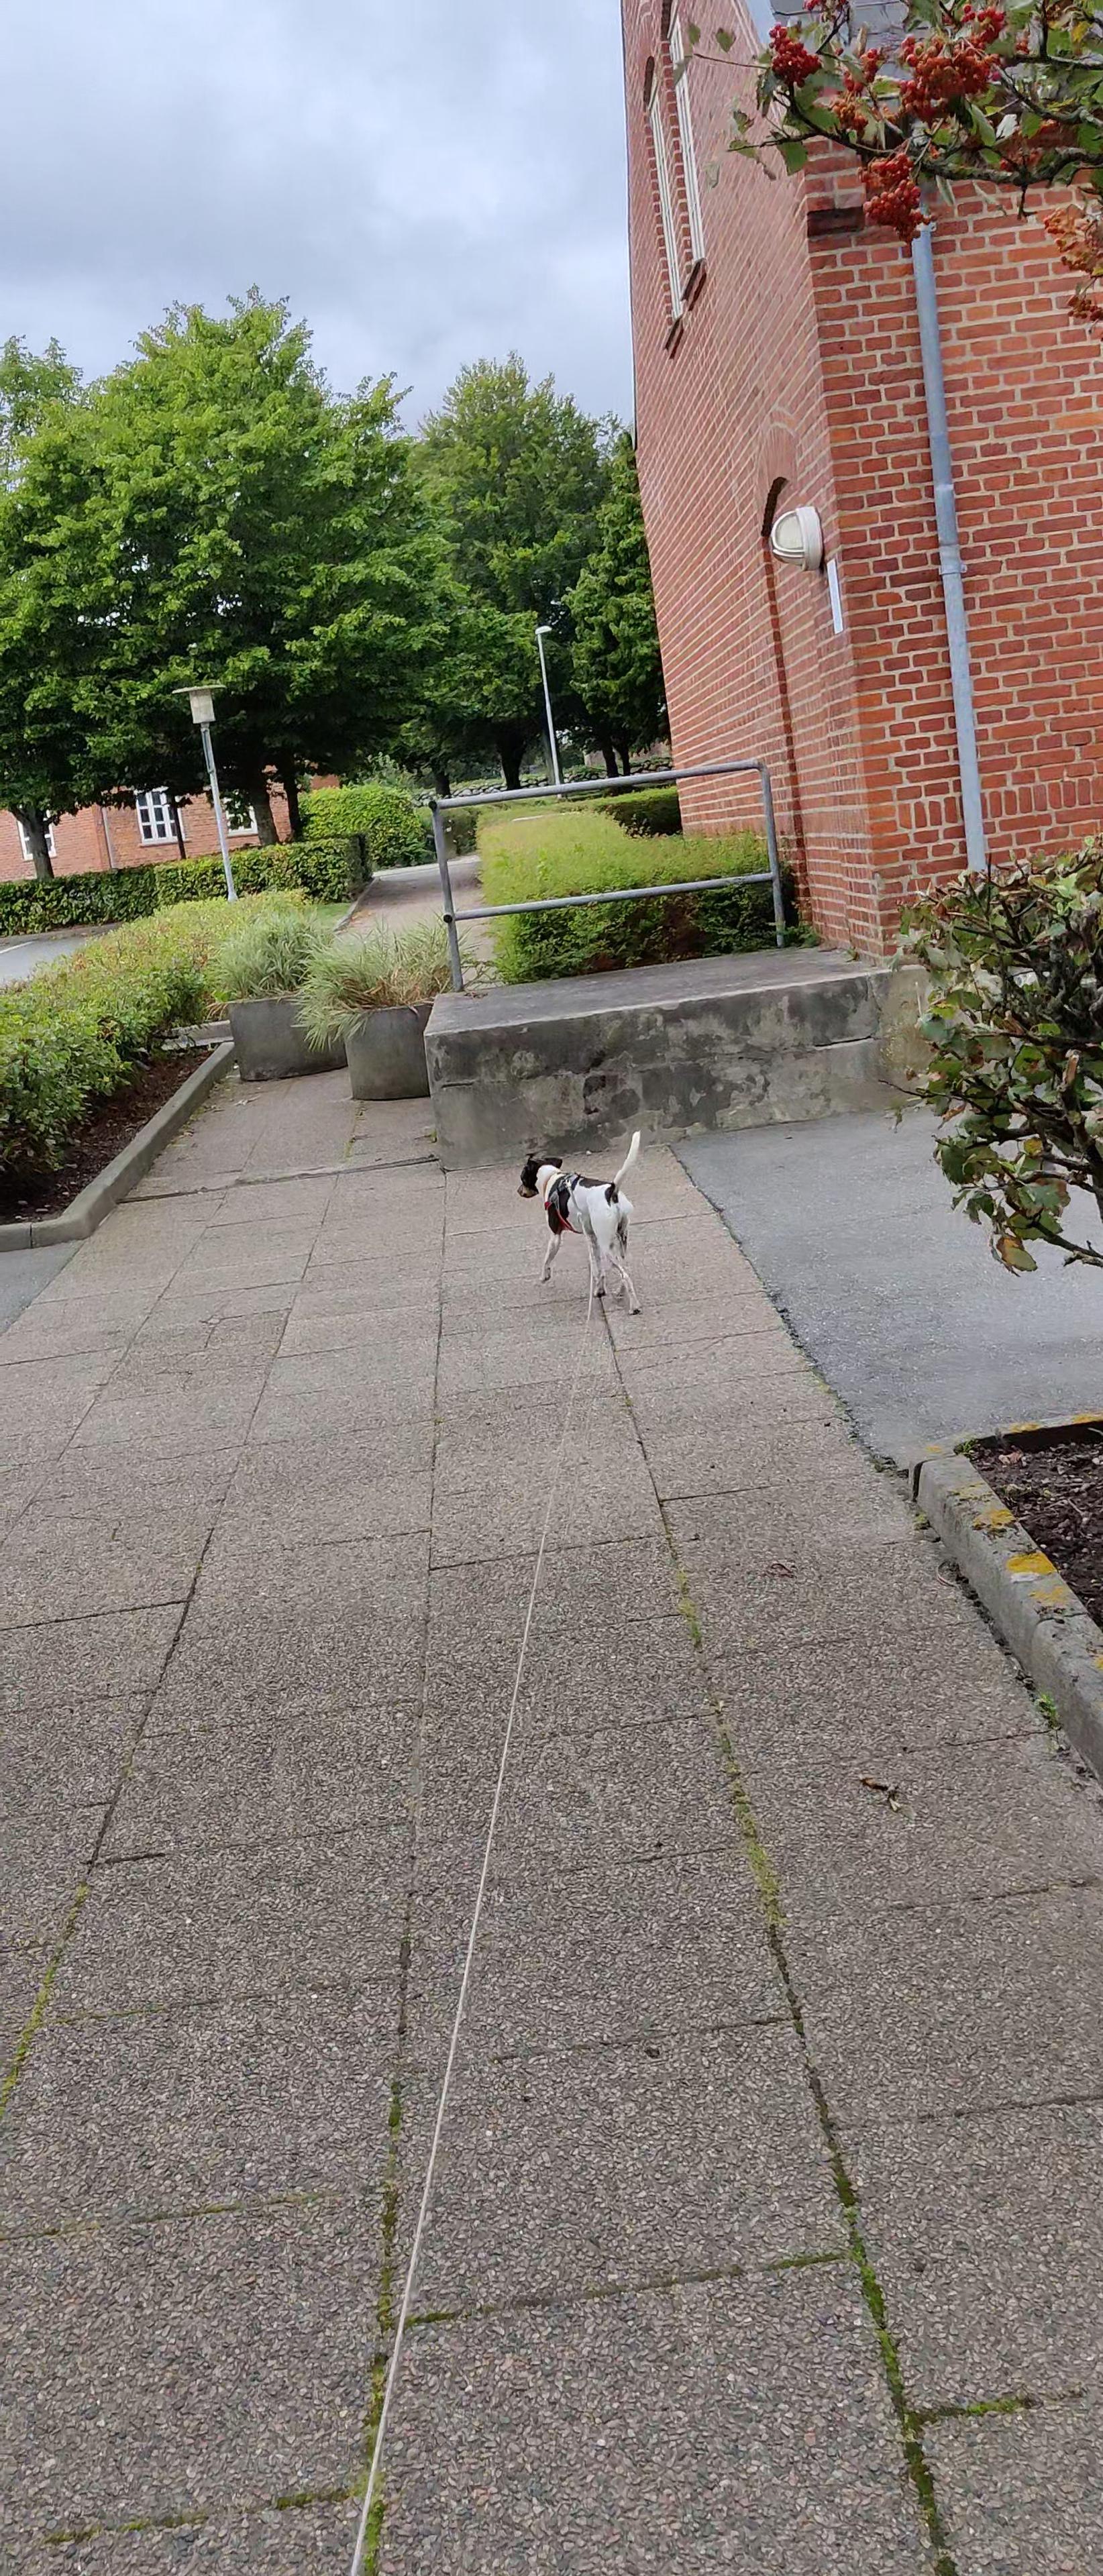Dog: (515, 1125, 644, 1316)
